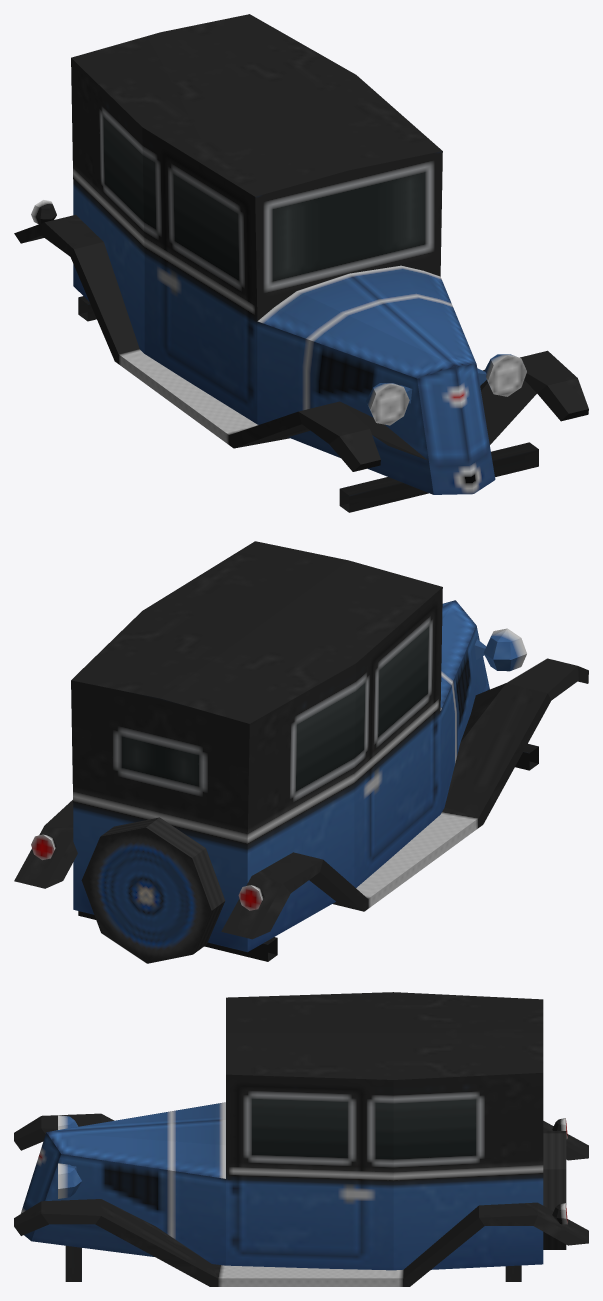
Rendered from Car7.obj.
3 views of the same model, one above another, from view 1: azimuth 30°, elevation 25°; view 2: azimuth 150°, elevation 25°; view 3: azimuth 270°, elevation 25° (orthographic). The views are drawn at different scales.
Visible parts, largest first — view 1: Car7; view 2: Car7; view 3: Car7.
Boxes of the visible parts, <box> form: Car7: <box>14,14,588,512</box>; Car7: <box>14,541,588,963</box>; Car7: <box>14,992,588,1286</box>.
Size of the model in its own units: 2.43 by 2.37 by 5.75.
1 material, 1 textured.
